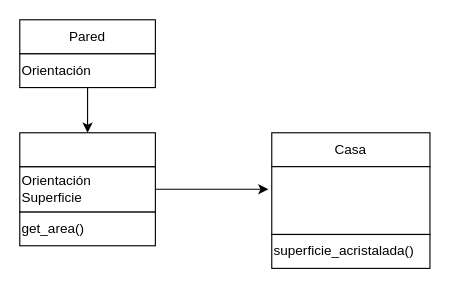
The diagram is 450 pixels wide and 288 high, and some of its shapes have lost their labels. The box of each missing label's shape, as (x1, y1, x2, y2) in pixels:
InterfazCristal: (19, 132, 155, 167)
Orientación Superficie Paredes: (271, 166, 430, 234)
